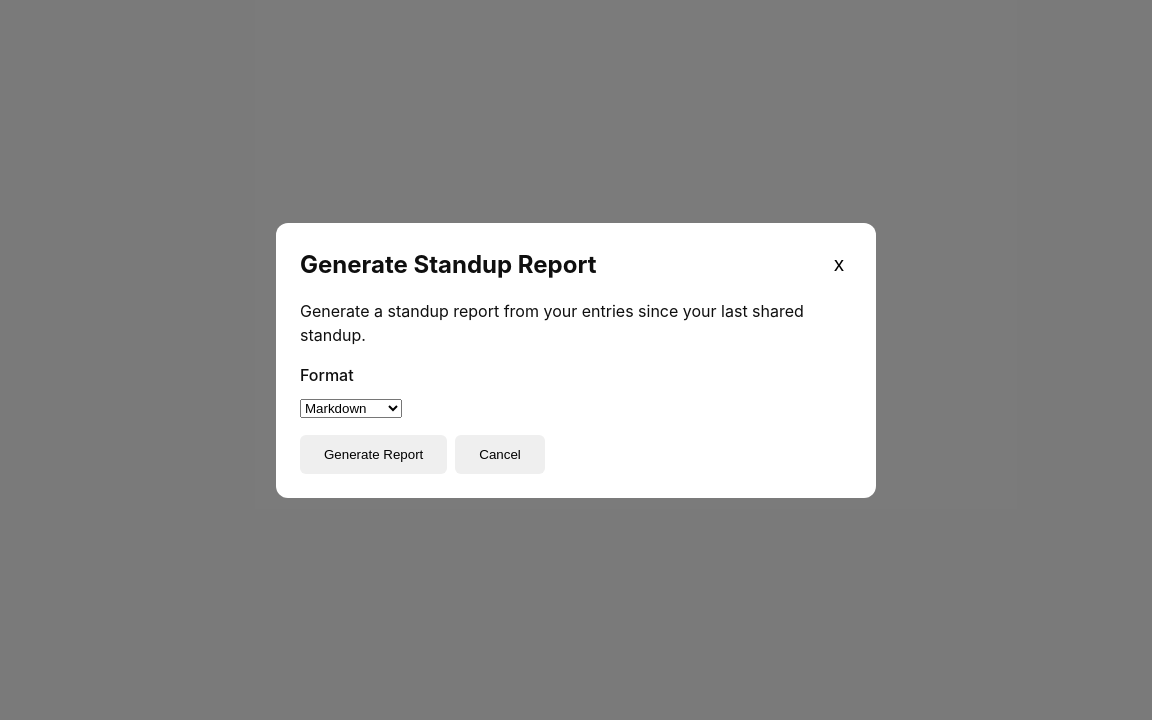
Scenario: StandupReport › shows loading state while generating
Step 1. Click the button "Generate Report" → click(374, 454), box [300,434,447,474]
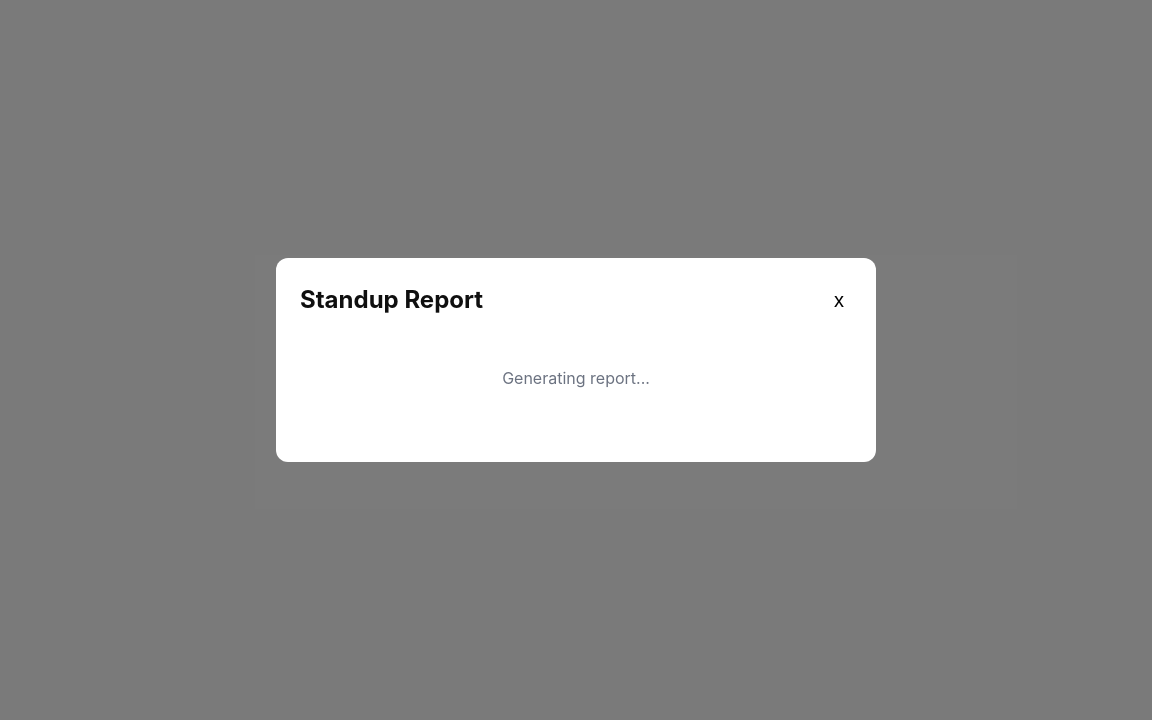
expect the text "Generating report..." is shown: met, box [502,368,650,388]
